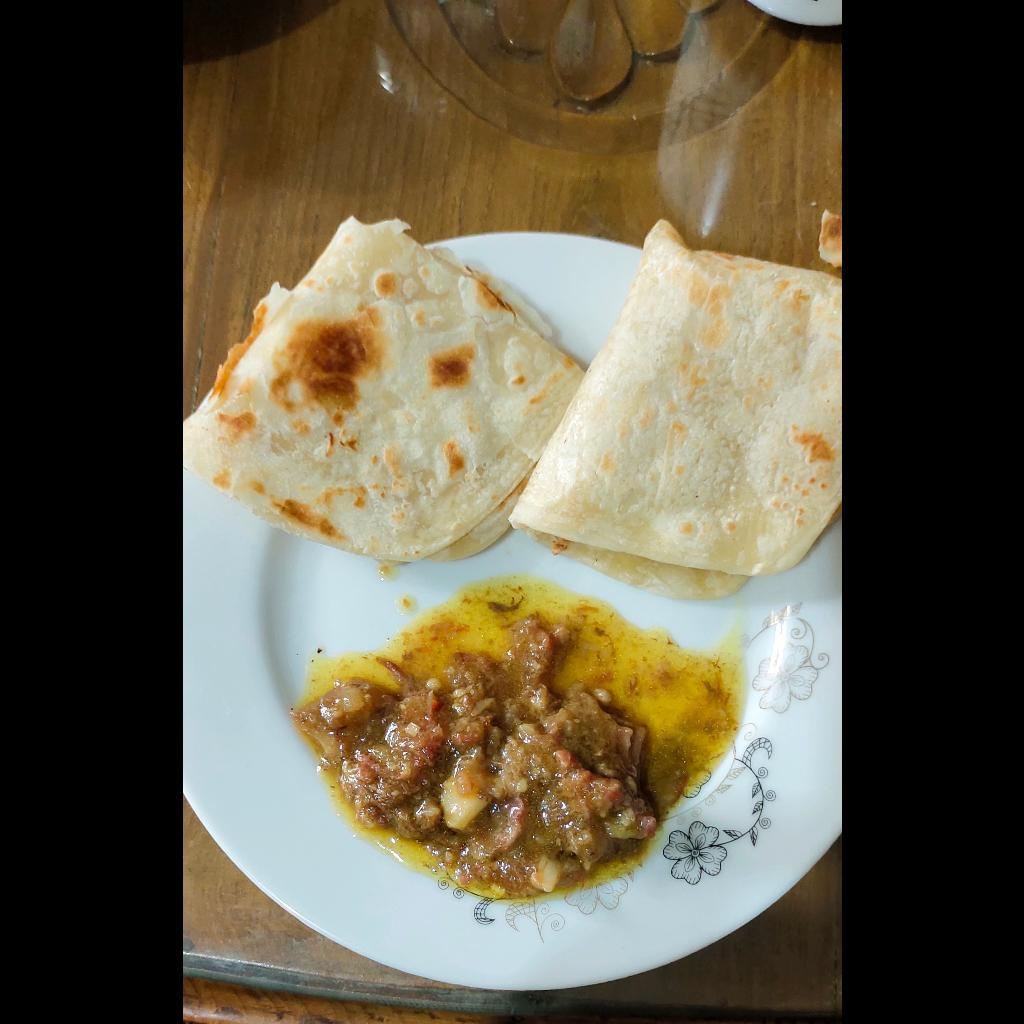beef: (291, 617, 658, 894)
ruti: (182, 213, 841, 601)
